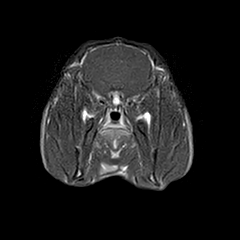Brain: (68, 15, 167, 113)
